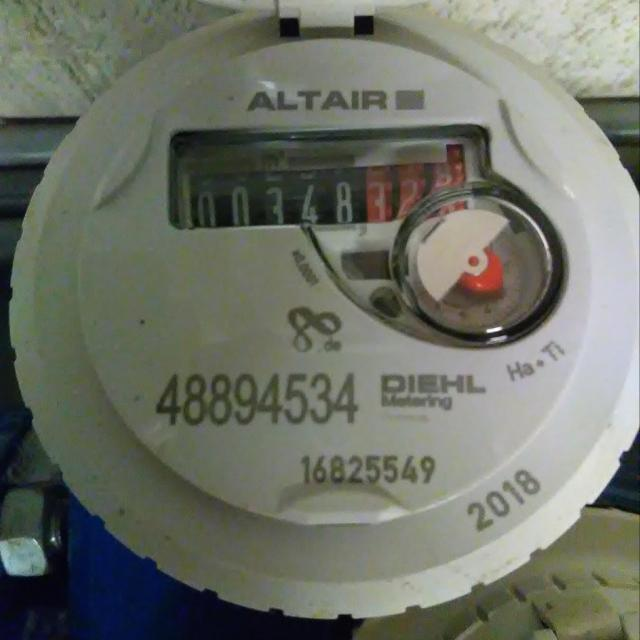gaz_meter: (11, 10, 640, 621)
indication: (177, 132, 467, 225)
